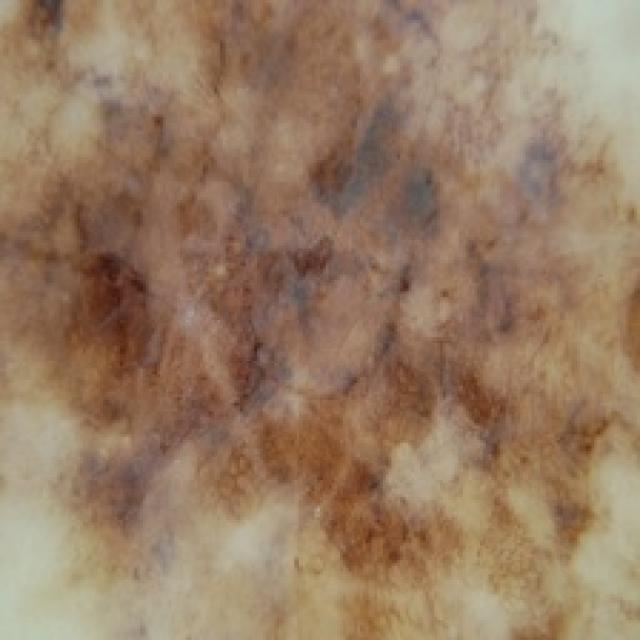cancer: (107, 96, 550, 524)
